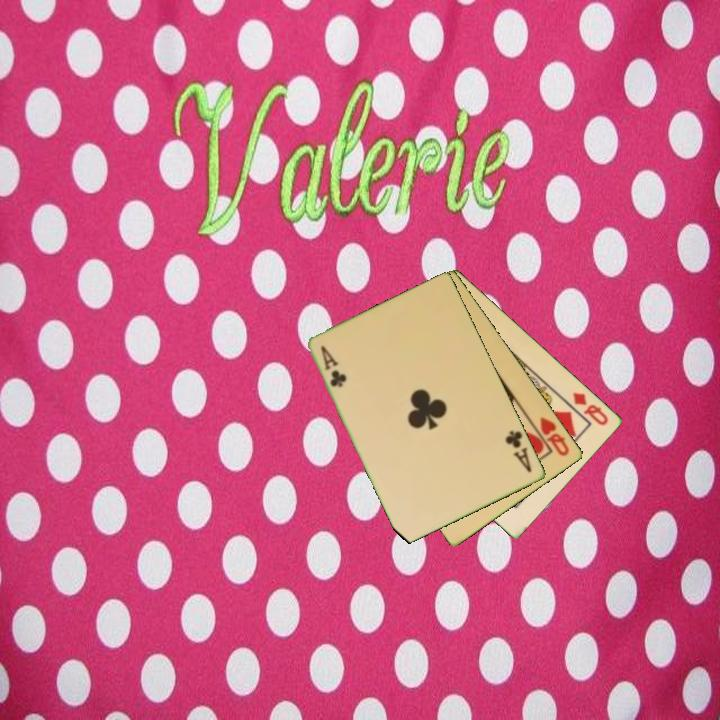Ac: (502, 427, 535, 476), (318, 342, 350, 390)
Qd: (570, 388, 612, 428)
Qh: (537, 413, 573, 459)
